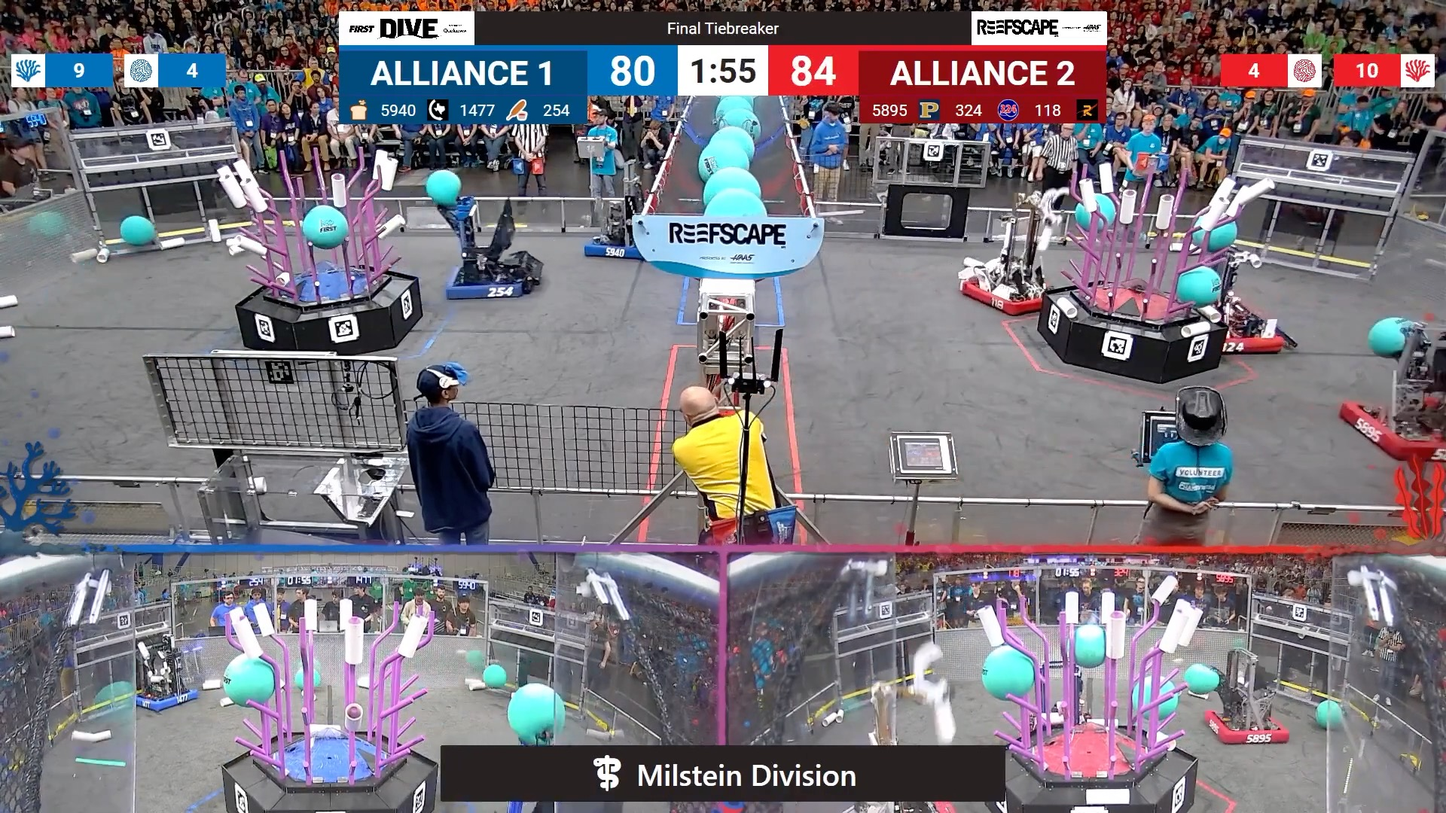bumpers: (1339, 395, 1446, 463), (443, 255, 542, 305), (958, 275, 1055, 322), (1196, 707, 1294, 750), (1215, 313, 1297, 363), (578, 227, 659, 264), (124, 686, 204, 717)
